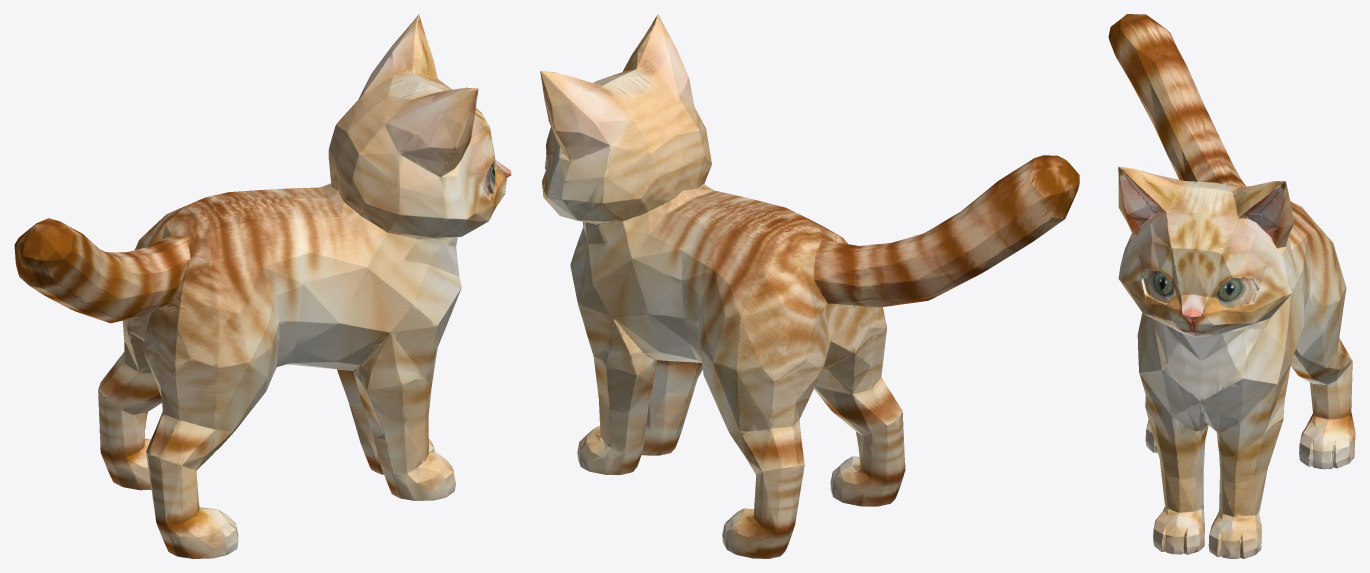
Rendered from CASENAP.glb.
3 renders of one model, left to right at view 1: azimuth 30°, elevation 25°; view 2: azimuth 150°, elevation 25°; view 3: azimuth 270°, elevation 25°, orthographic. The views are drawn at different scales.
Parts seen in each view (by area): view 1: fit; view 2: fit; view 3: fit.
Boxes of the visible parts, x1,y1,x2,y2 form: fit: [14, 14, 511, 558]; fit: [540, 14, 1079, 558]; fit: [1108, 14, 1355, 558].
Bounding box in the file's own units: 1.29 × 1 × 0.5806.
1 material, 1 textured.
